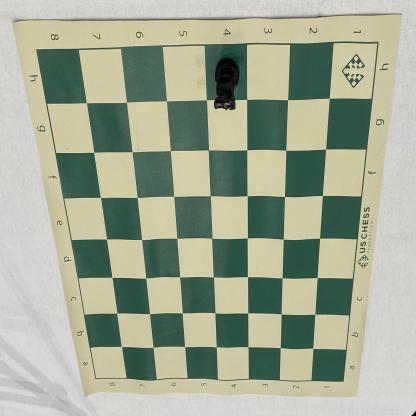black-knight: (214, 56, 240, 111)
